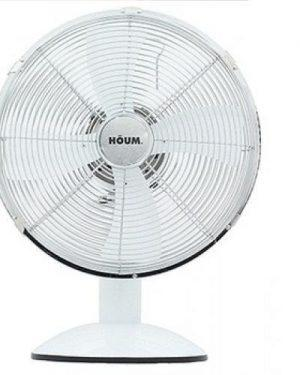fan: (0, 3, 265, 360)
